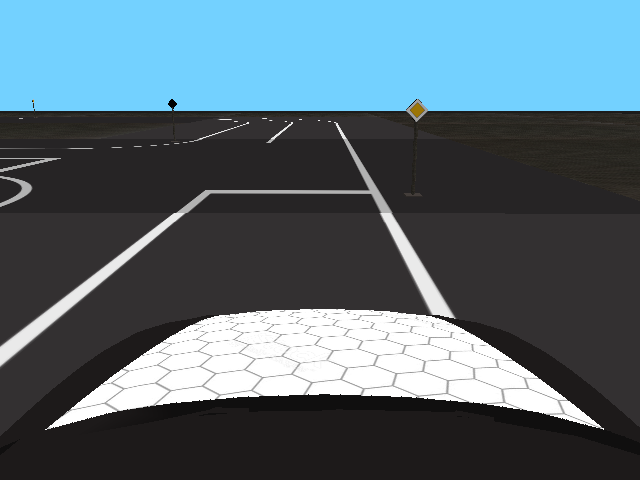yellow_light: (406, 99, 428, 121)
